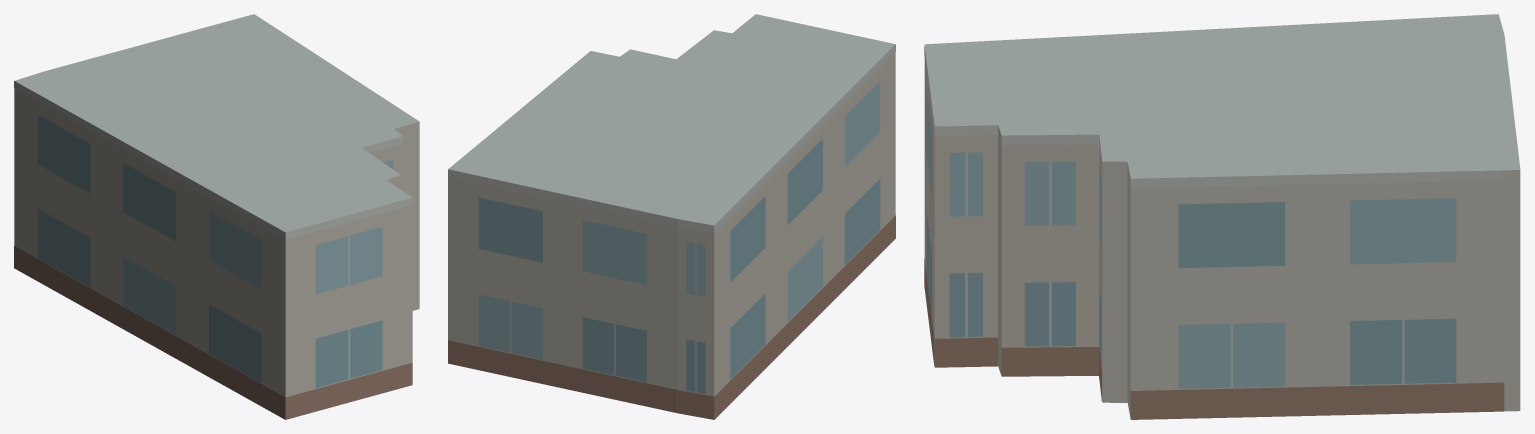
Rendered from survey-upis-32996101.glb.
3 renders of one model, left to right at view 1: azimuth 30°, elevation 25°; view 2: azimuth 150°, elevation 25°; view 3: azimuth 270°, elevation 25°, orthographic. The views are drawn at different scales.
Parts seen in each view (by area): view 1: survey-upis-32996101.tmp; view 2: survey-upis-32996101.tmp; view 3: survey-upis-32996101.tmp.
Part boxes in pixels (left/top/right/bottom): survey-upis-32996101.tmp: left=14, top=14, right=419, bottom=419; survey-upis-32996101.tmp: left=448, top=14, right=895, bottom=419; survey-upis-32996101.tmp: left=924, top=14, right=1520, bottom=419.
Size of the model in its own units: 8.95 by 6.1 by 13.68.
